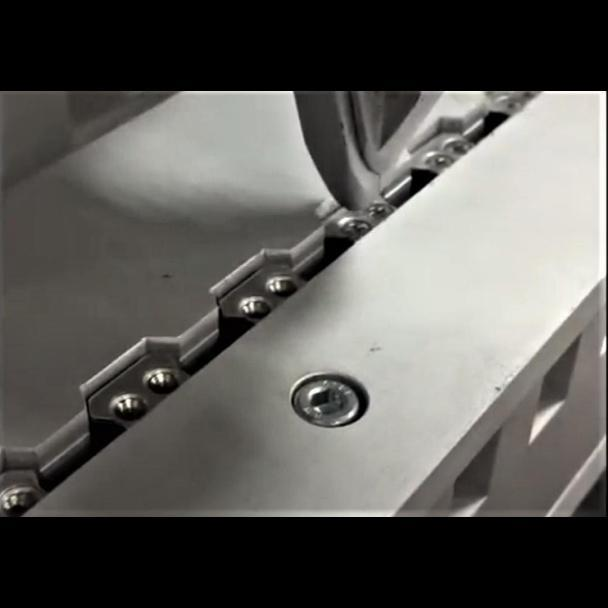hole: (107, 392, 152, 425), (142, 366, 182, 395), (238, 294, 274, 324), (264, 272, 300, 299)
